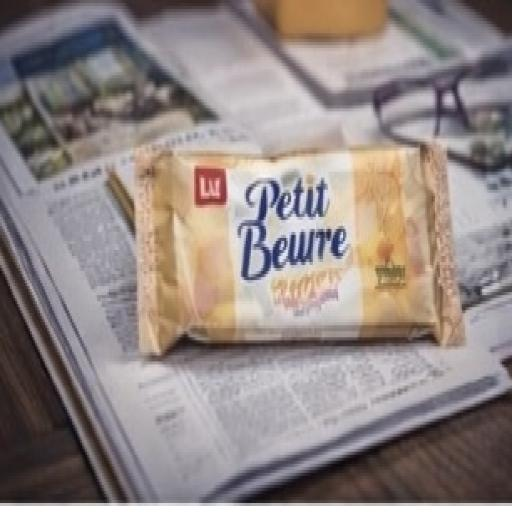petit-beurre: (126, 115, 500, 424)
